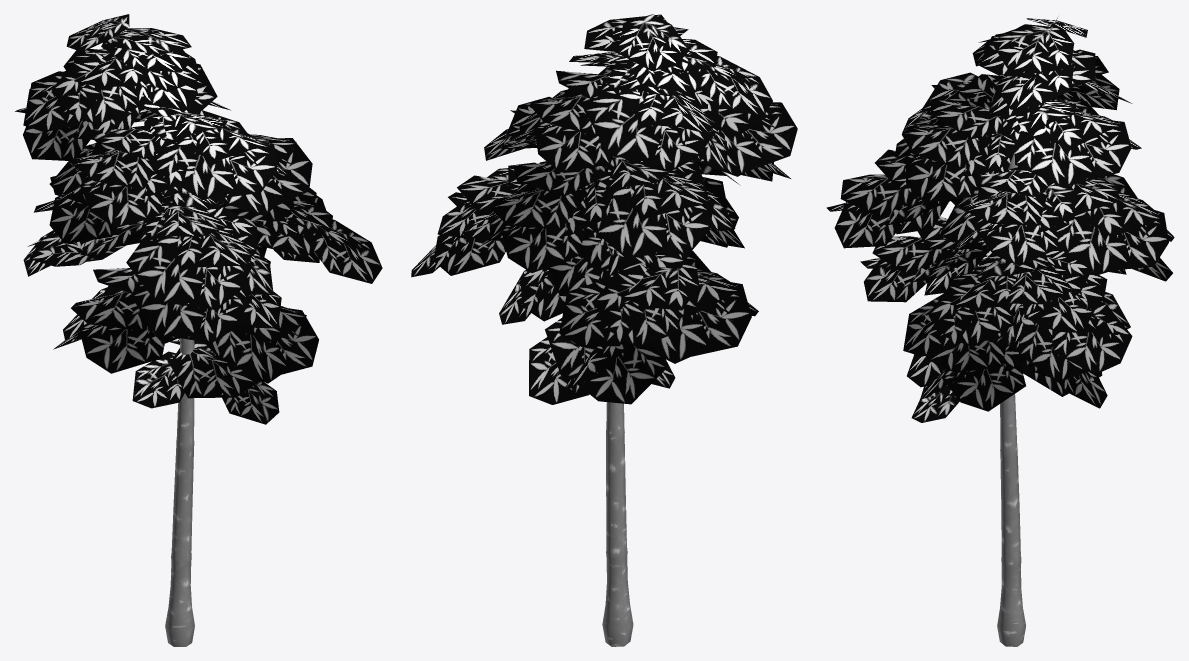
File: P_Bamboo3.obj
The picture shows the model from 3 angles, left to right: view 1: azimuth 30°, elevation 25°; view 2: azimuth 150°, elevation 25°; view 3: azimuth 270°, elevation 25°; orthographic projection. The views are drawn at different scales.
Bounding box in the file's own units: 8.67 × 16.55 × 8.67.
